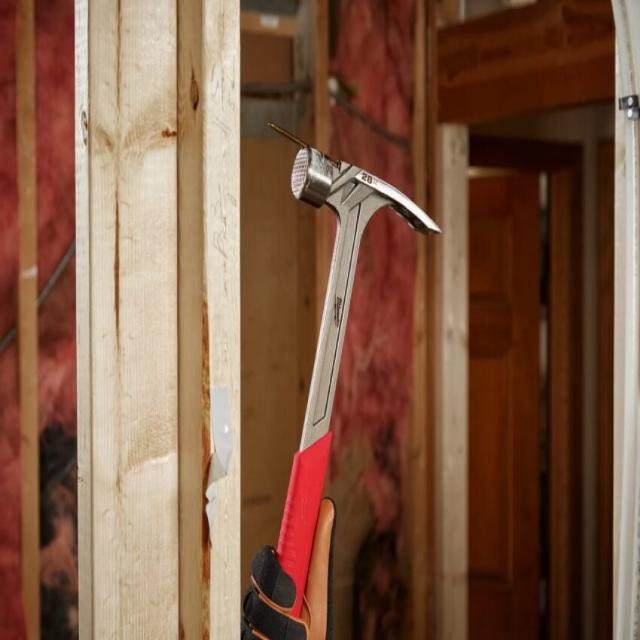hammer: (262, 139, 446, 626)
